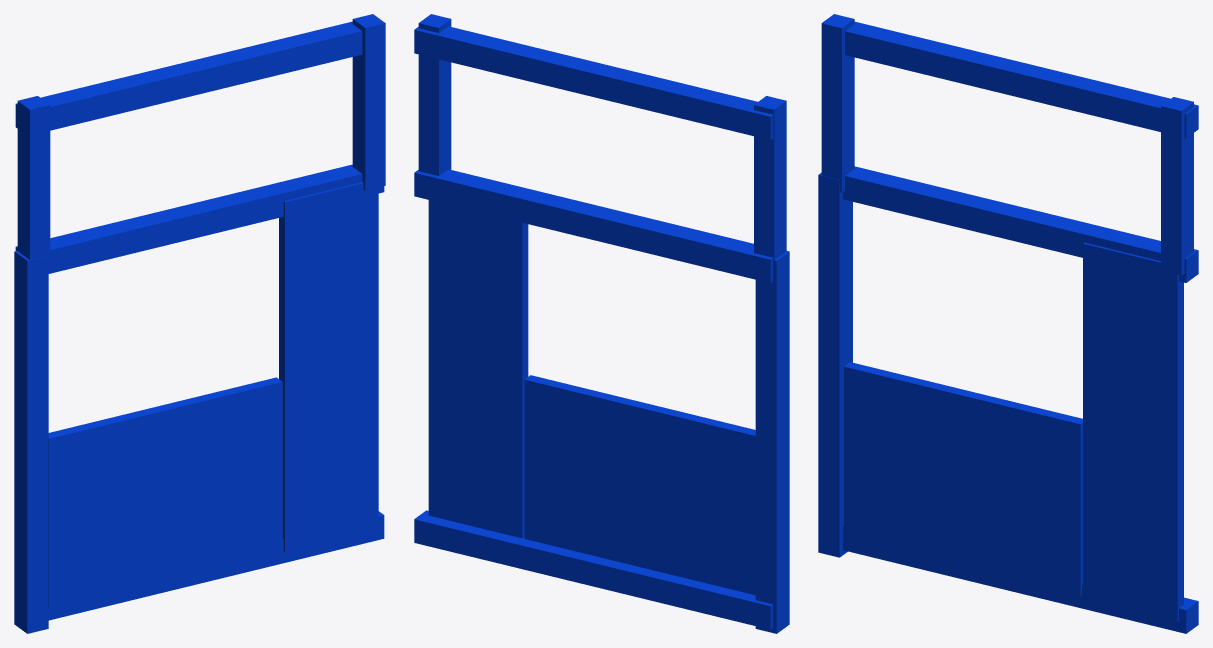
The model's file is Bastion_Wall_02A.fbx.
The picture shows the model from 3 angles, left to right: view 1: azimuth 30°, elevation 25°; view 2: azimuth 150°, elevation 25°; view 3: azimuth 330°, elevation 25°; orthographic projection.
Visible parts, largest first — view 1: Bastion_Wall_02A; view 2: Bastion_Wall_02A; view 3: Bastion_Wall_02A.
Boxes of the visible parts, bbox=[...] form: Bastion_Wall_02A: bbox=[14, 14, 385, 633]; Bastion_Wall_02A: bbox=[414, 14, 789, 633]; Bastion_Wall_02A: bbox=[818, 14, 1198, 633].
Bounding box in the file's own units: 303 × 420 × 22.45.
